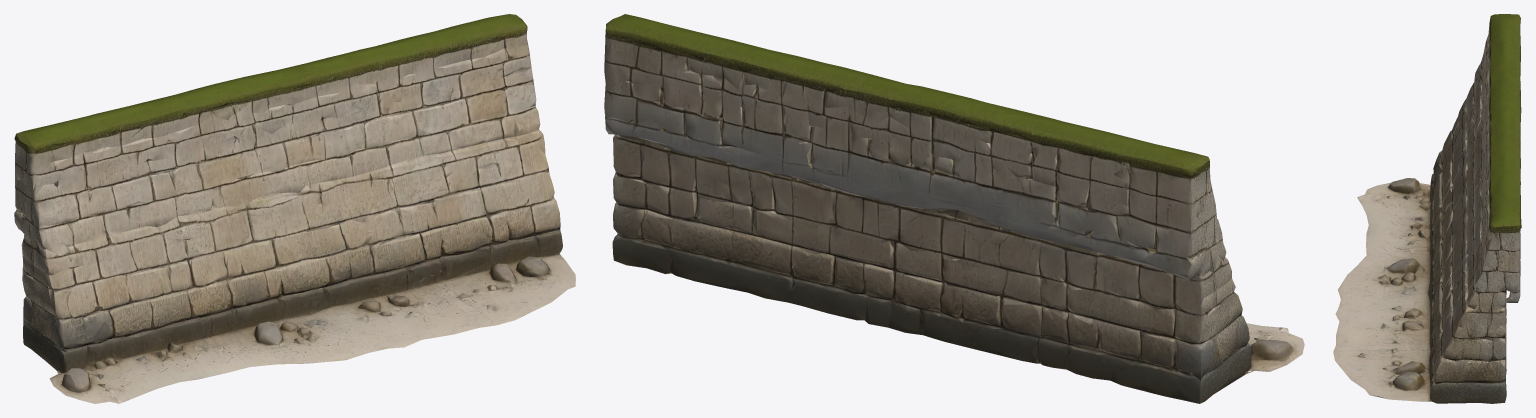
File: seawall-r3.glb
The picture shows the model from 3 angles, left to right: view 1: azimuth 30°, elevation 25°; view 2: azimuth 150°, elevation 25°; view 3: azimuth 270°, elevation 25°; orthographic projection. The views are drawn at different scales.
Parts seen in each view (by area): view 1: Mesh; view 2: Mesh; view 3: Mesh.
Part boxes in pixels (bbox=[...]): Mesh: bbox=[14, 14, 575, 403]; Mesh: bbox=[604, 14, 1304, 403]; Mesh: bbox=[1333, 14, 1521, 403].
Bounding box in the file's own units: 1.85 × 0.7207 × 0.667.
Materials: 1 (1 with a texture image).
